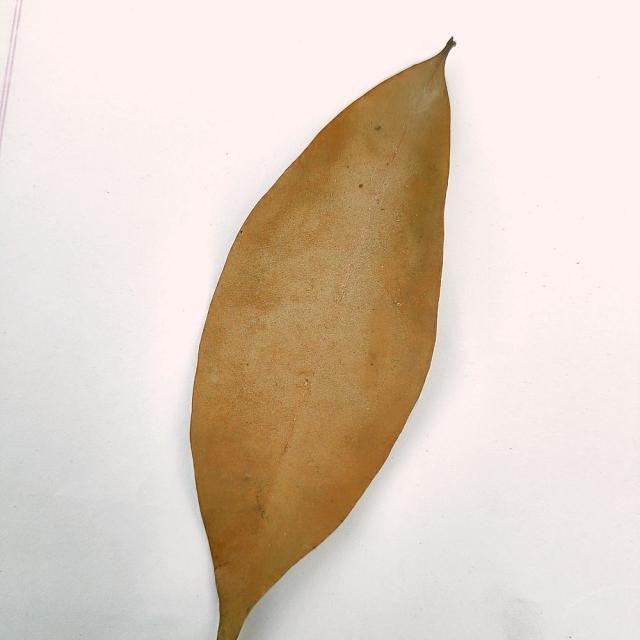Dry_Leaf-Lychee: (189, 40, 454, 639)
